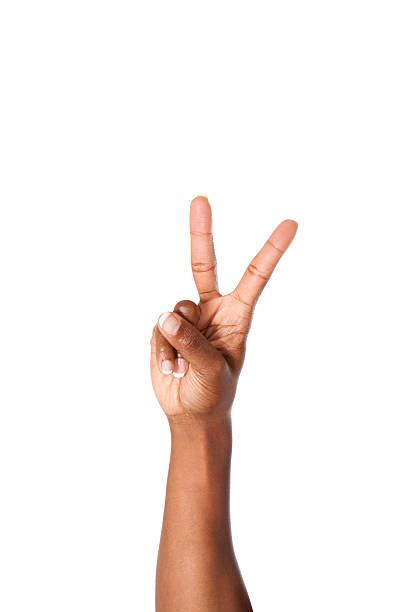peace_sign: (140, 189, 306, 440)
